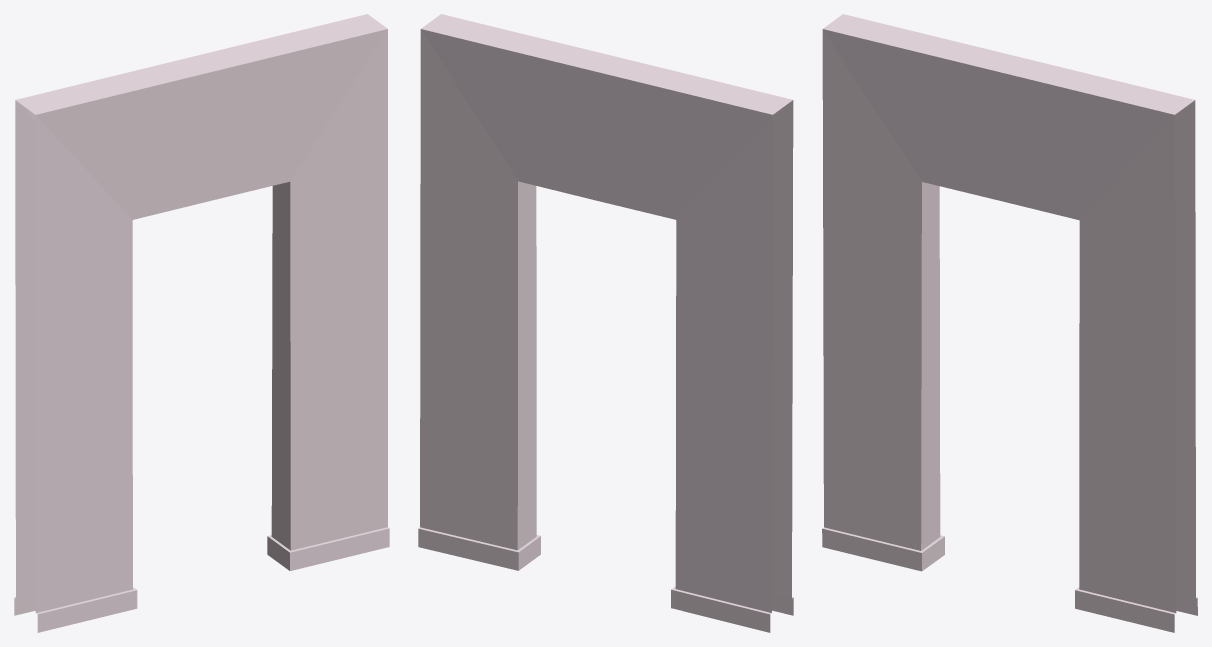
Rendered from env_wall_entry_rectangular.fbx.
3 views of the same model, side by side, from view 1: azimuth 30°, elevation 25°; view 2: azimuth 150°, elevation 25°; view 3: azimuth 330°, elevation 25° (orthographic).
Visible parts, largest first — view 1: Casa pared rectang puerta; view 2: Casa pared rectang puerta; view 3: Casa pared rectang puerta.
Boxes of the visible parts, bbox=[...] form: Casa pared rectang puerta: bbox=[14, 14, 389, 632]; Casa pared rectang puerta: bbox=[418, 14, 793, 632]; Casa pared rectang puerta: bbox=[822, 14, 1197, 632].
Bounding box in the file's own units: 200 × 280 × 23.
1 material, 1 textured.
